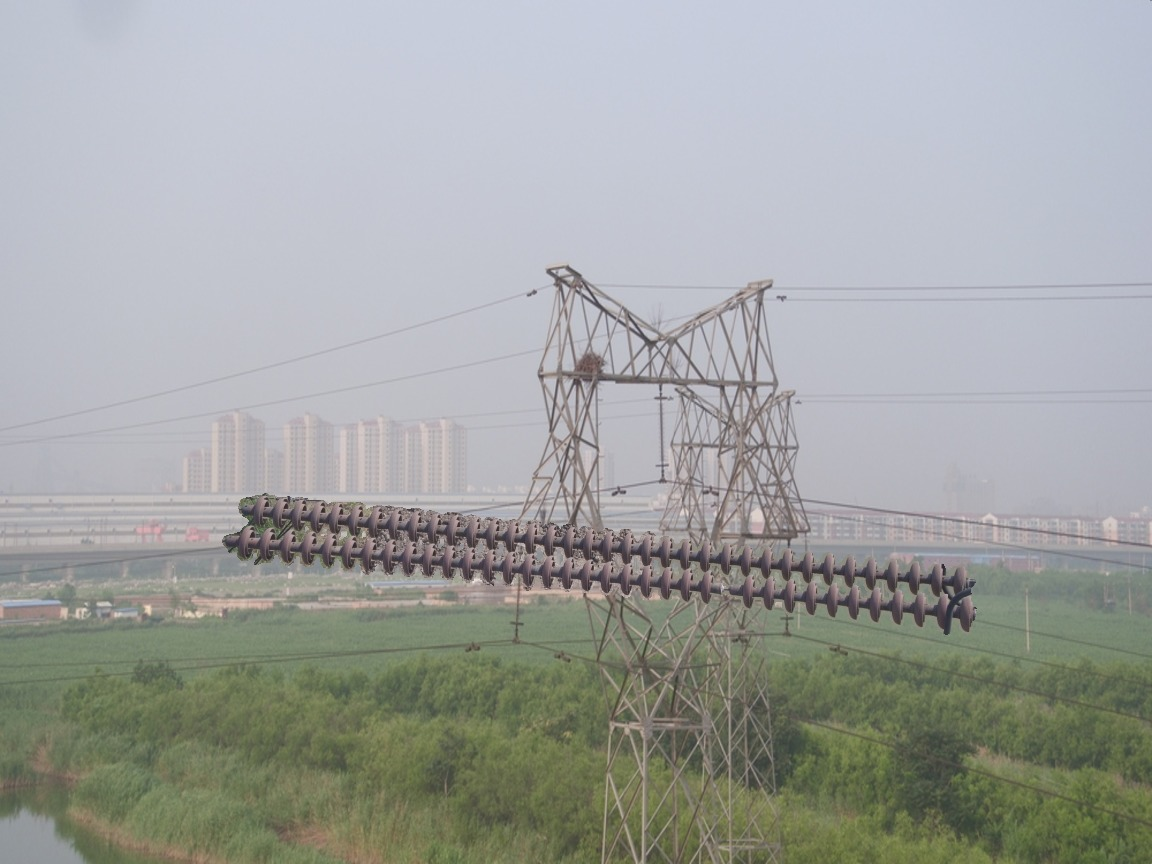defect: (692, 566, 764, 608)
